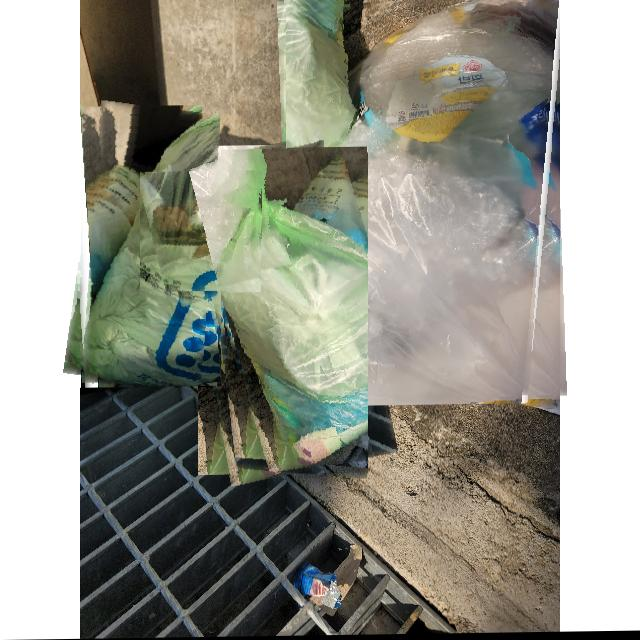general_trashbag: (211, 150, 367, 476), (79, 116, 219, 387), (140, 173, 259, 293)
other_trashbag: (287, 0, 551, 407)
